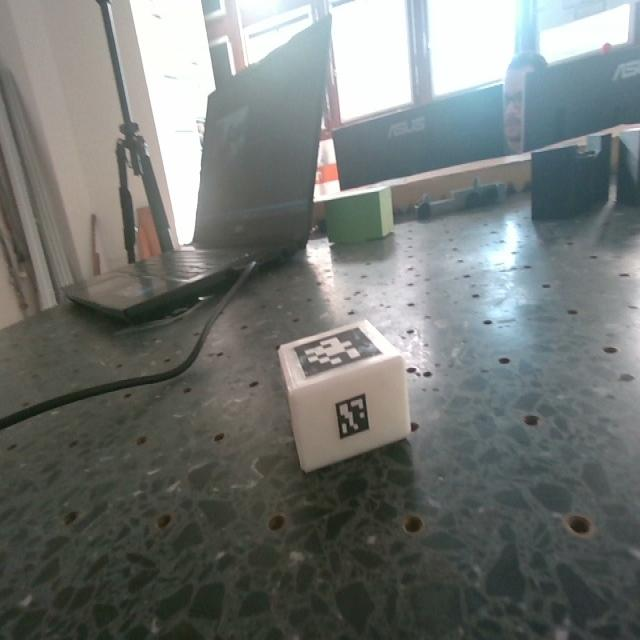Cube: (274, 316, 407, 475)
